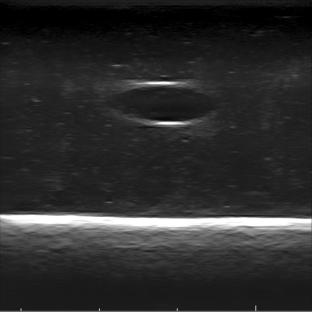vessel: (111, 81, 217, 126)
